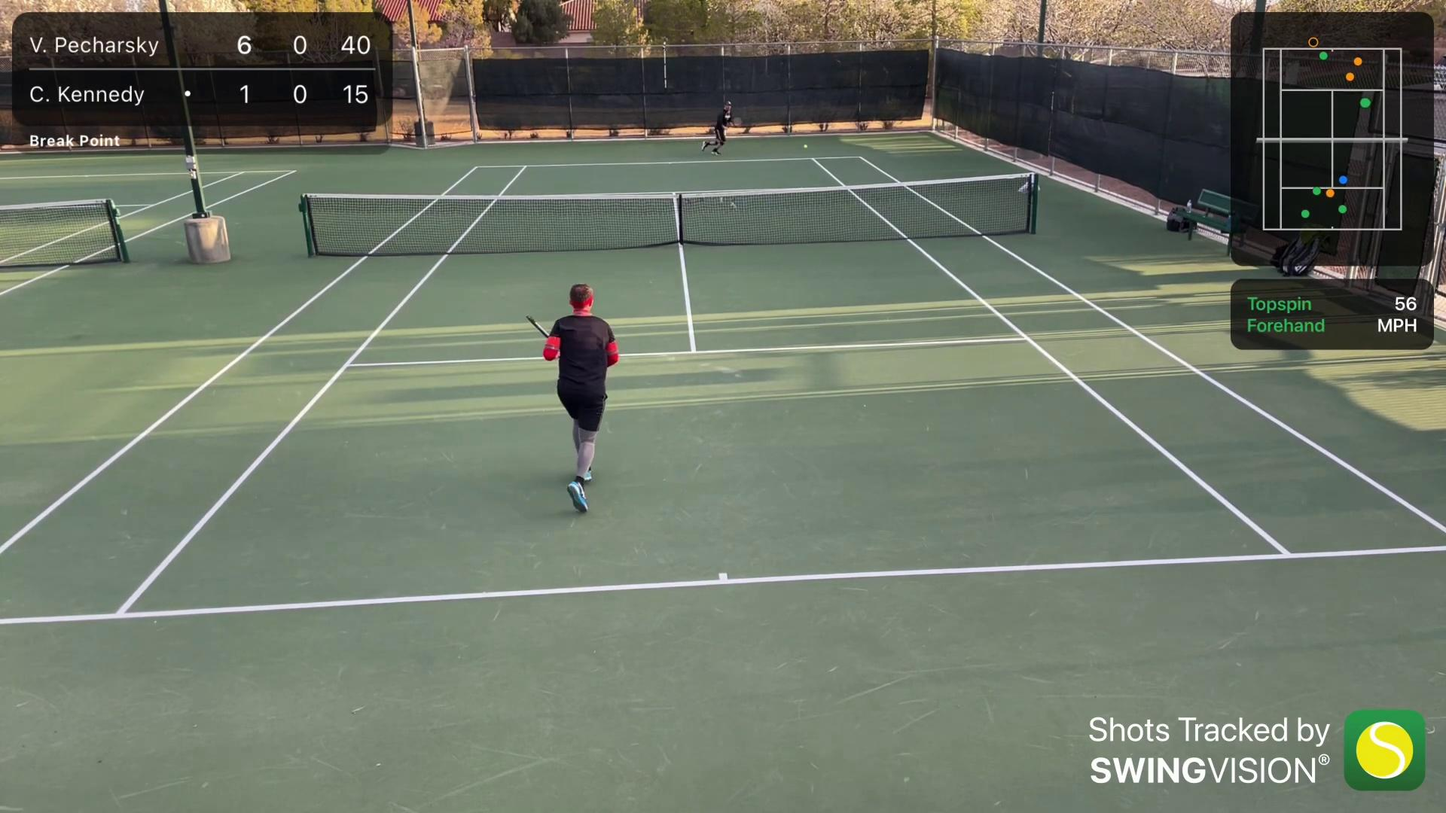ball: (802, 143, 809, 149)
